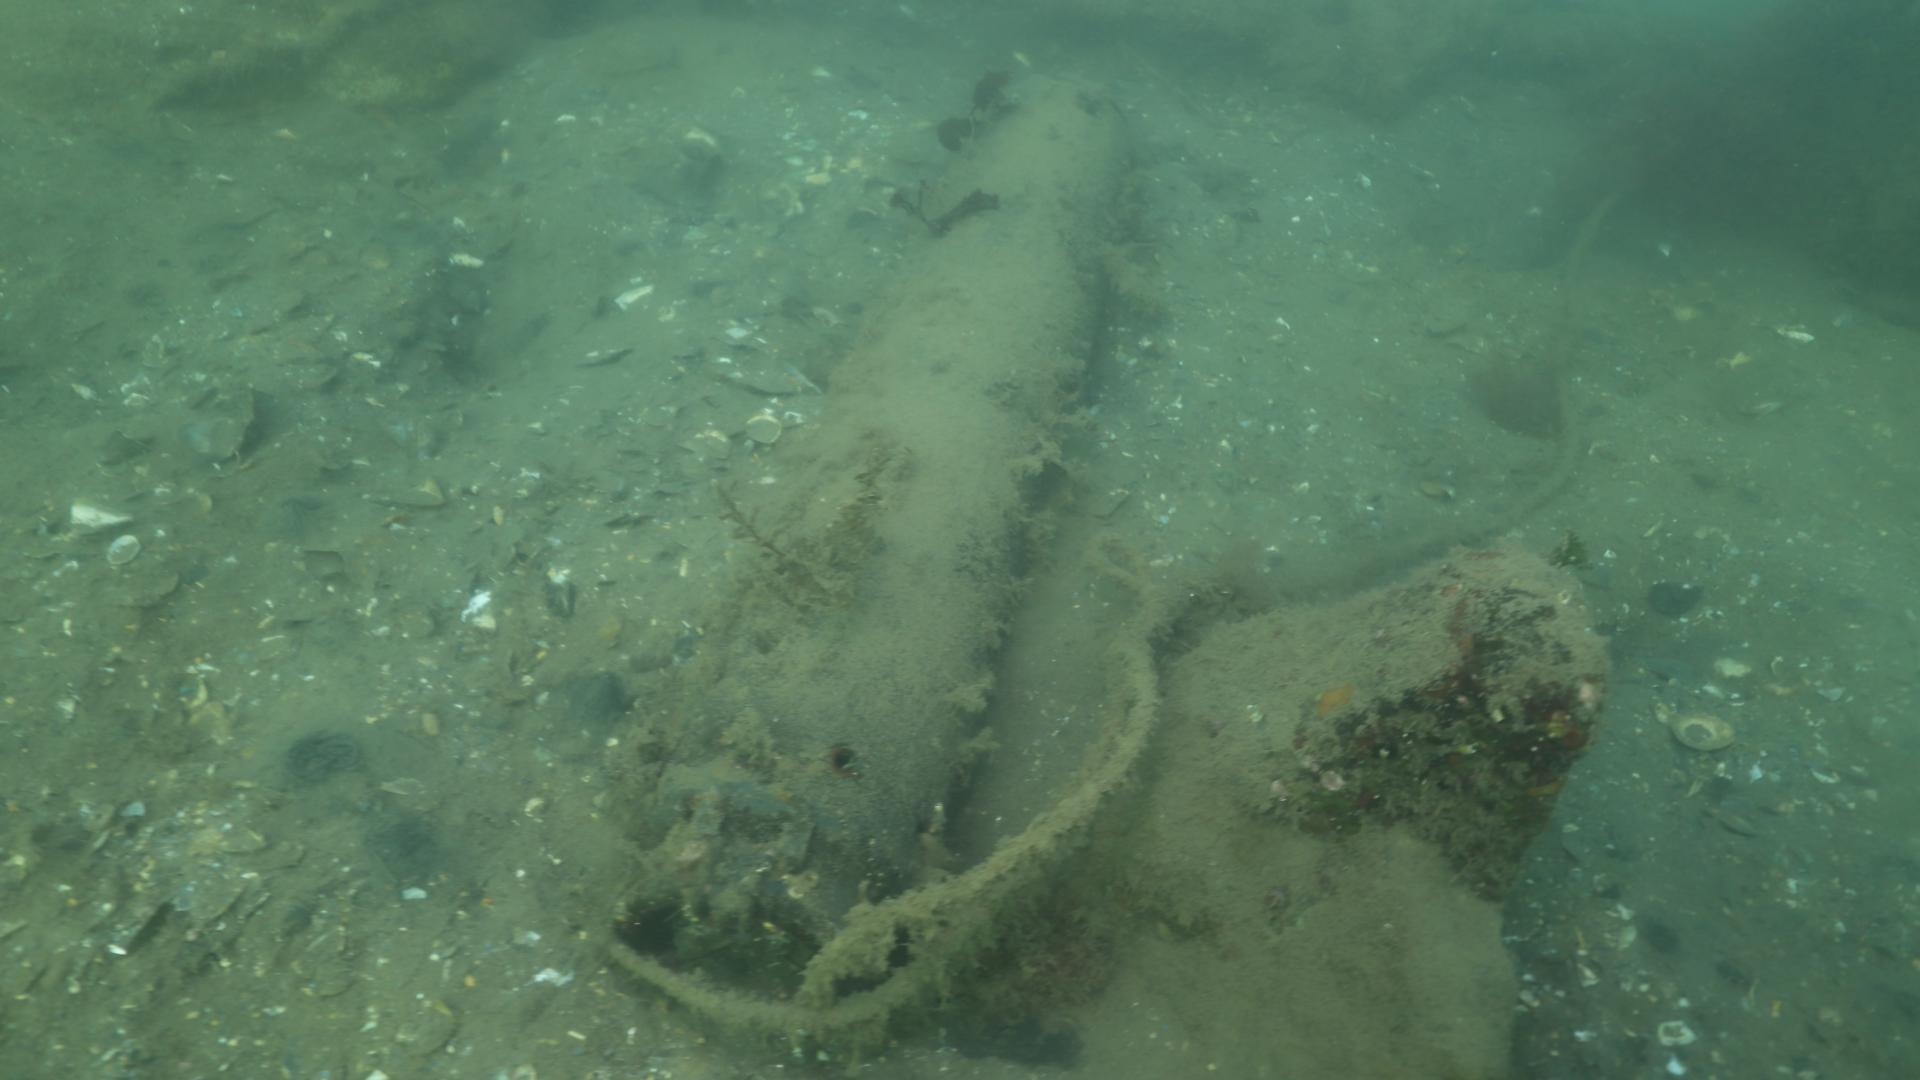bundle of ropes: (595, 567, 1172, 1044)
eel fish trap: (611, 80, 1137, 961)
